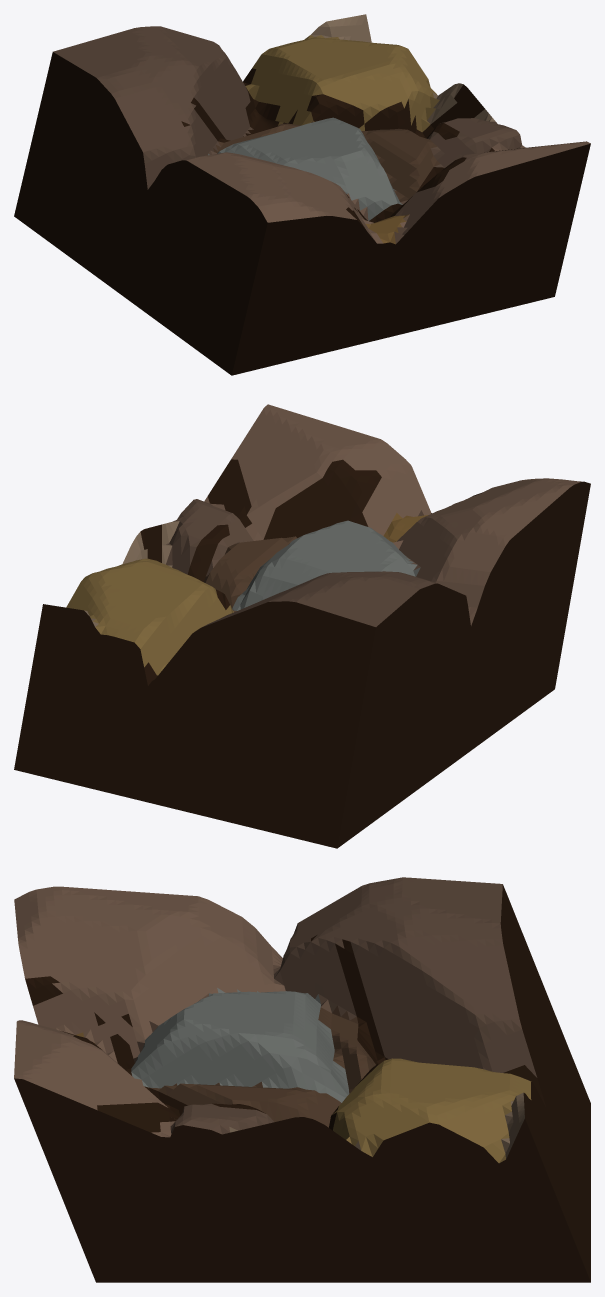
Rendered from ixm_cover_193.glb.
3 views of the same model, one above another, from view 1: azimuth 30°, elevation 25°; view 2: azimuth 150°, elevation 25°; view 3: azimuth 270°, elevation 25° (orthographic). The views are drawn at different scales.
Visible parts, largest first — view 1: ixm_cover_193; view 2: ixm_cover_193; view 3: ixm_cover_193.
Boxes of the visible parts, x1,y1,x2,y2 form: ixm_cover_193: (14,14,590,375); ixm_cover_193: (14,404,590,848); ixm_cover_193: (14,877,590,1282).
Size of the model in its own units: 24 by 14.27 by 32.64.
